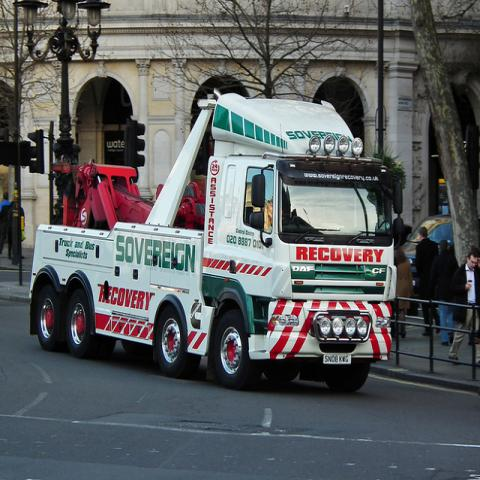car: (401, 214, 452, 287)
truck: (26, 98, 400, 385)
